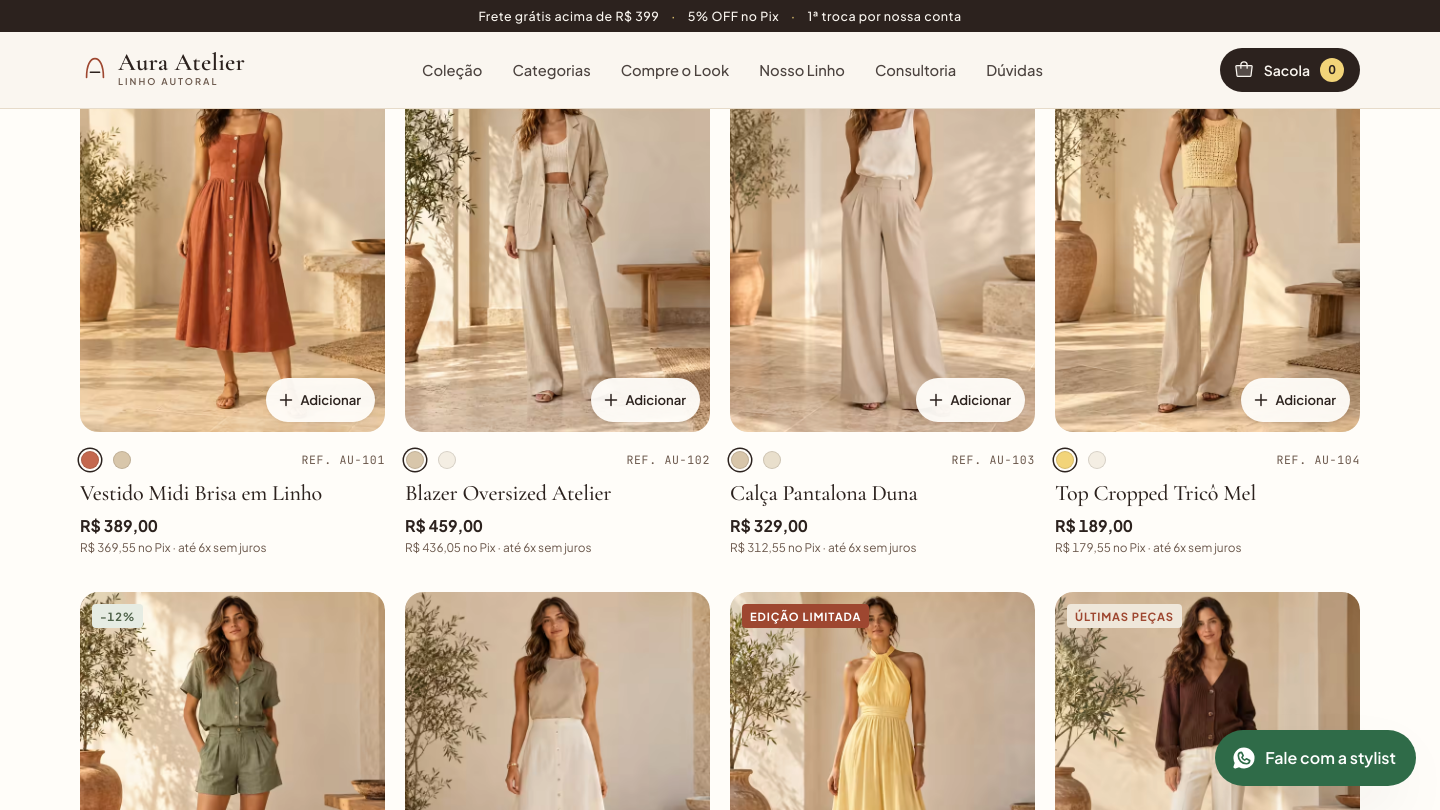
Test case: fluxo da vitrine › quick-add do card adiciona tamanho + cor à sacola e mostra o aviso
(page scrolled)
Click the radio button named "Areia" in the row of "AU-101" at (122, 460), box [106,444,138,476]
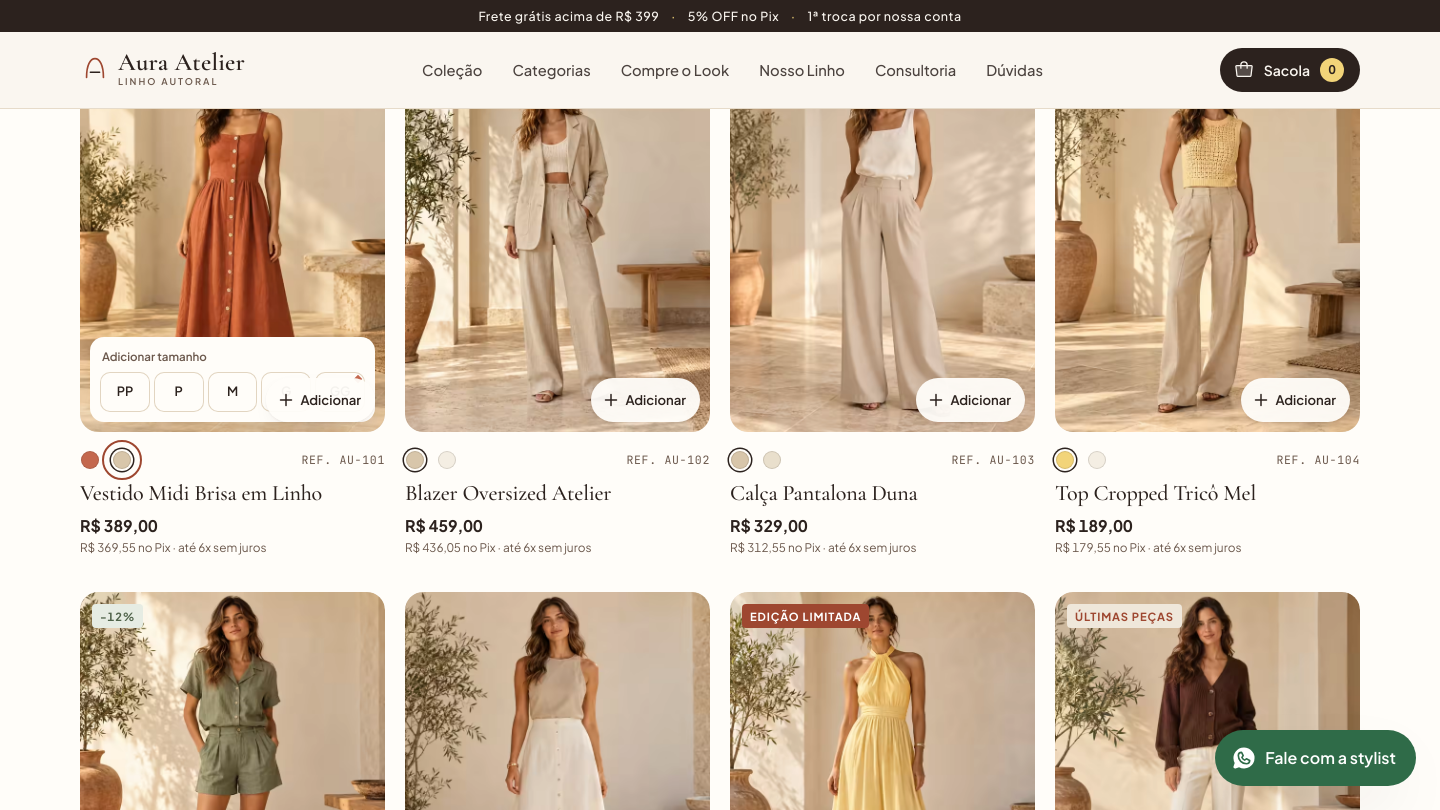
Click the button with aria-label "Adicionar Vestido Midi Brisa em Linho à sacola" at (321, 400), box [266,378,375,422]
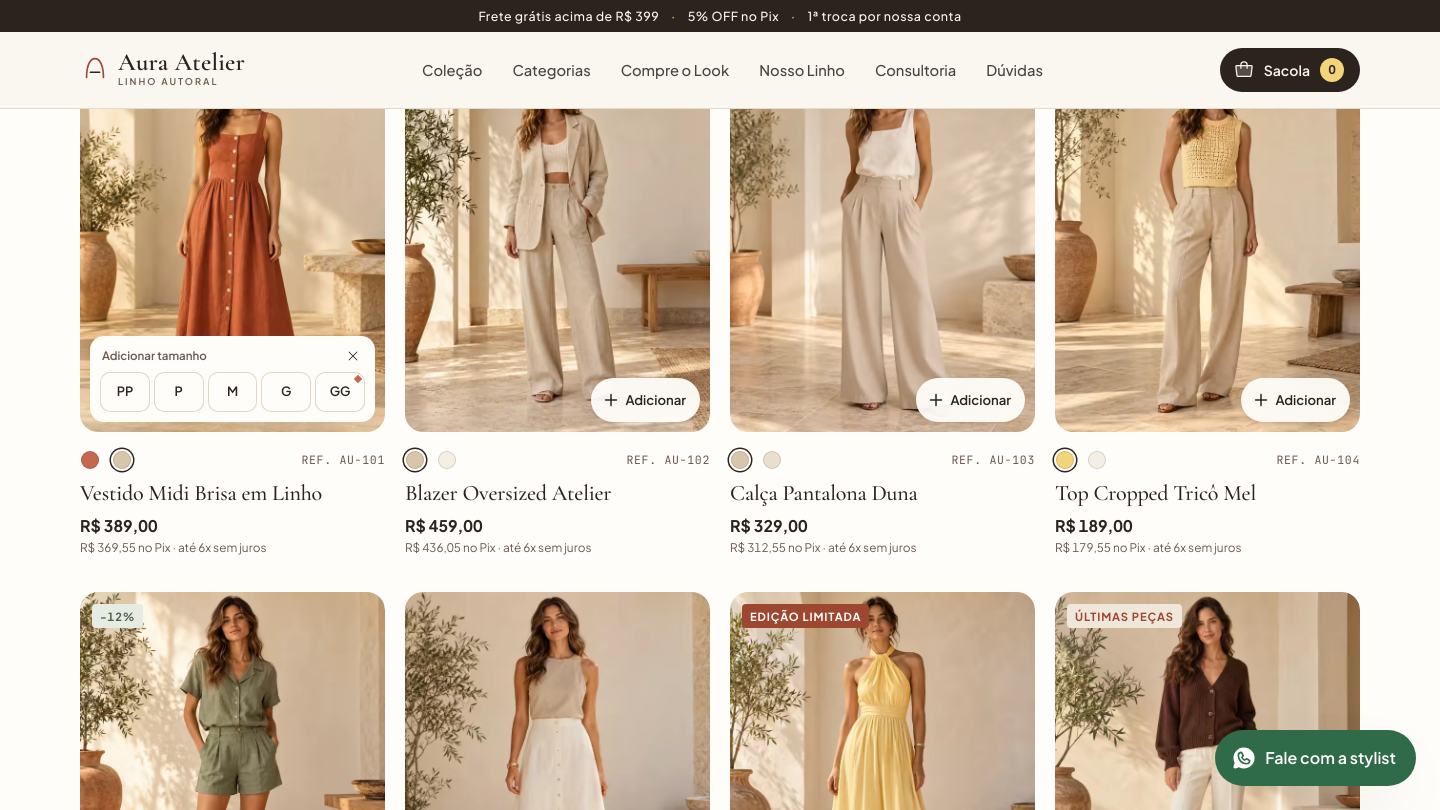
Click the radio button labelled "M" at (232, 392), box [208,372,257,412]
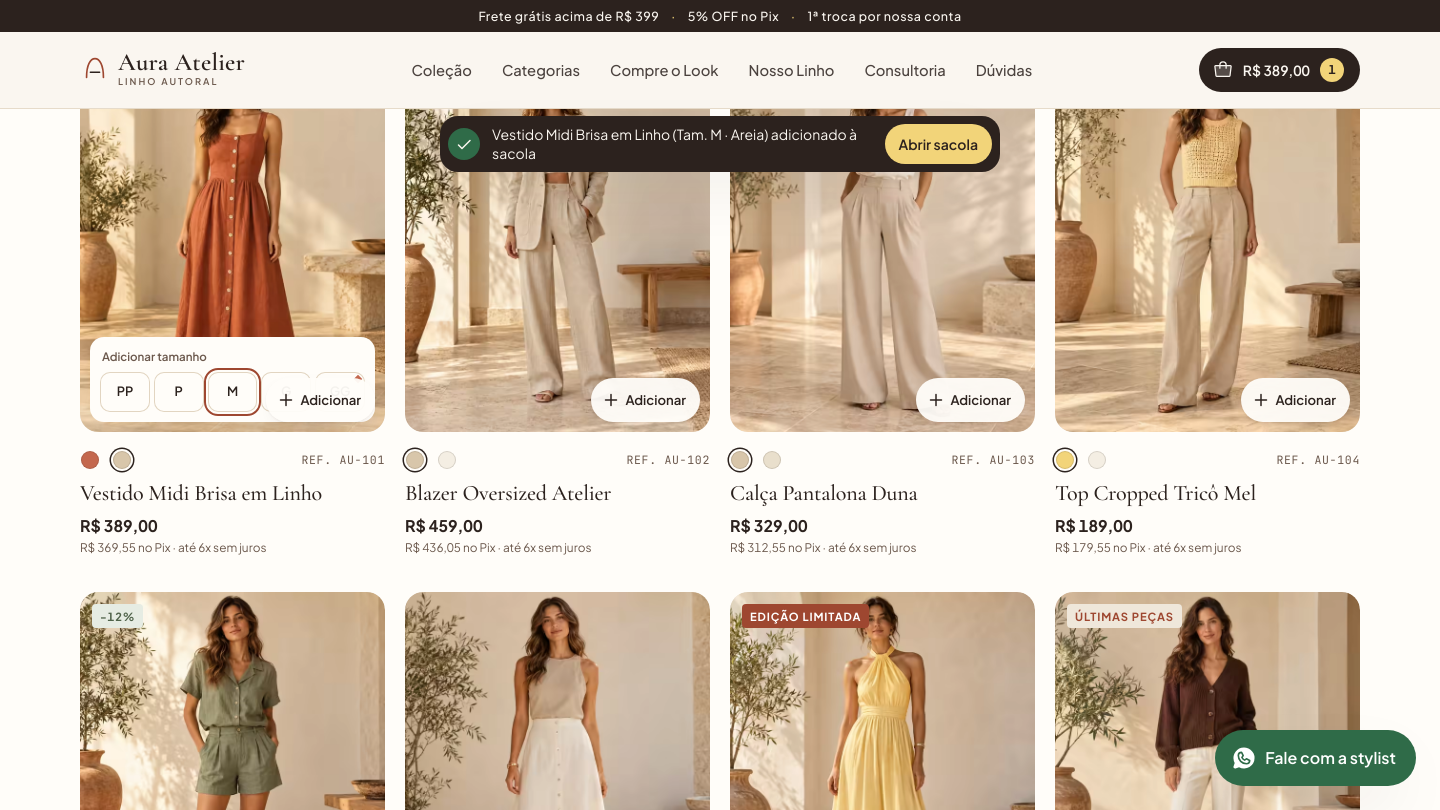
Expected: the message with test id "bag-toast" shows "Vestido Midi Brisa em Linho (Tam. M · Areia) adicionado à sacola", [492,125,857,162]
